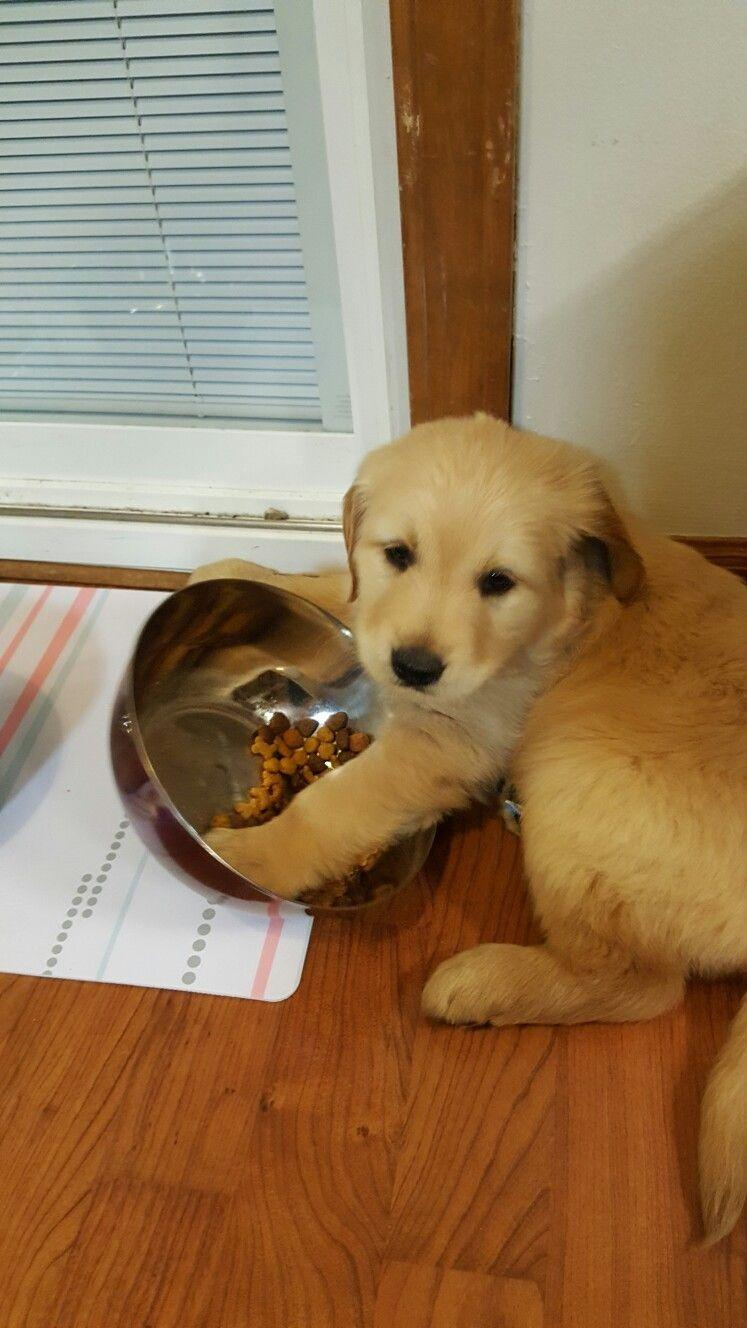puppy-dog: (189, 414, 747, 1234)
